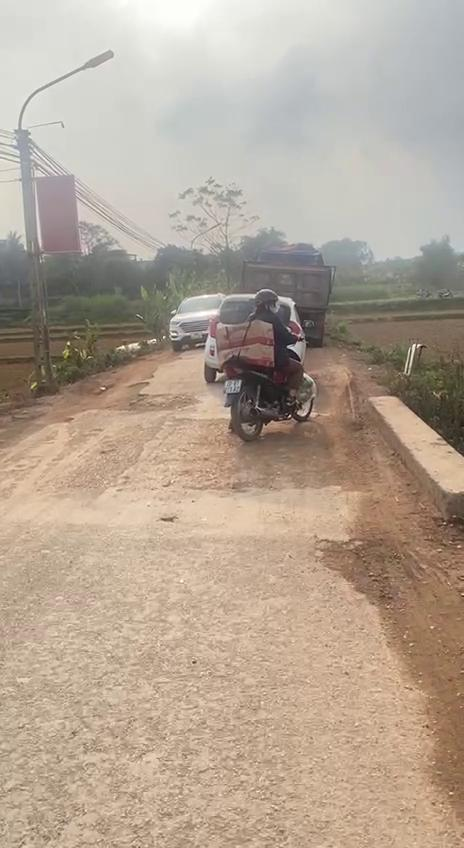pothole: (316, 533, 411, 610), (92, 381, 198, 417)
